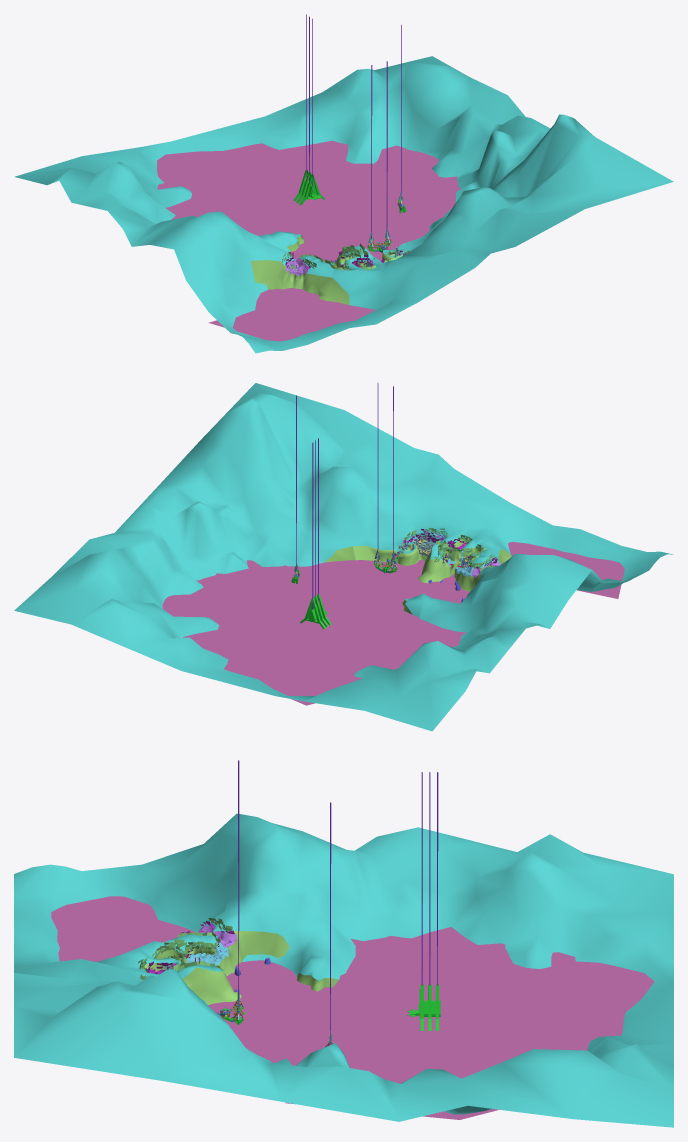
The model's file is deltahalotest.fbx.
3 renders of one model, top to bottom at view 1: azimuth 30°, elevation 25°; view 2: azimuth 150°, elevation 25°; view 3: azimuth 270°, elevation 25°, orthographic. The views are drawn at different scales.
Visible parts, largest first — view 1: worldmesh.030, worldmesh.033, worldmesh.011, worldmesh.022, worldmesh.035; view 2: worldmesh.030, worldmesh.033, worldmesh.011, worldmesh.022, worldmesh.035; view 3: worldmesh.030, worldmesh.033, worldmesh.011, worldmesh.022, worldmesh.035.
Part boxes in pixels (bbox=[...]): worldmesh.030: bbox=[14, 56, 673, 353]; worldmesh.033: bbox=[157, 140, 461, 341]; worldmesh.011: bbox=[251, 234, 392, 305]; worldmesh.022: bbox=[306, 14, 401, 232]; worldmesh.035: bbox=[282, 243, 409, 270]; worldmesh.030: bbox=[14, 383, 673, 731]; worldmesh.033: bbox=[162, 542, 624, 705]; worldmesh.011: bbox=[325, 539, 511, 614]; worldmesh.022: bbox=[296, 383, 393, 609]; worldmesh.035: bbox=[401, 527, 495, 571]; worldmesh.030: bbox=[14, 813, 673, 1127]; worldmesh.033: bbox=[51, 896, 654, 1119]; worldmesh.011: bbox=[144, 930, 338, 1004]; worldmesh.022: bbox=[238, 760, 438, 1031]; worldmesh.035: bbox=[138, 918, 232, 979].
Size of what is drawn, in the model's own units: 1.2e+07 by 6193890 by 1.2e+07.
